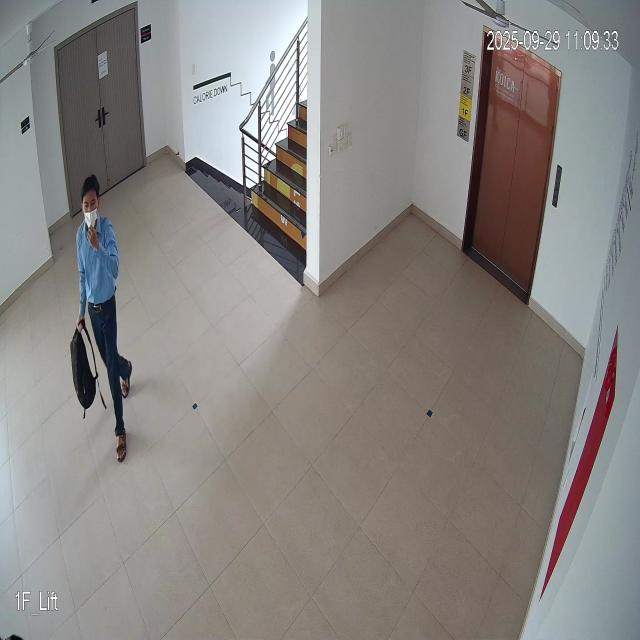face: (79, 174, 101, 238)
